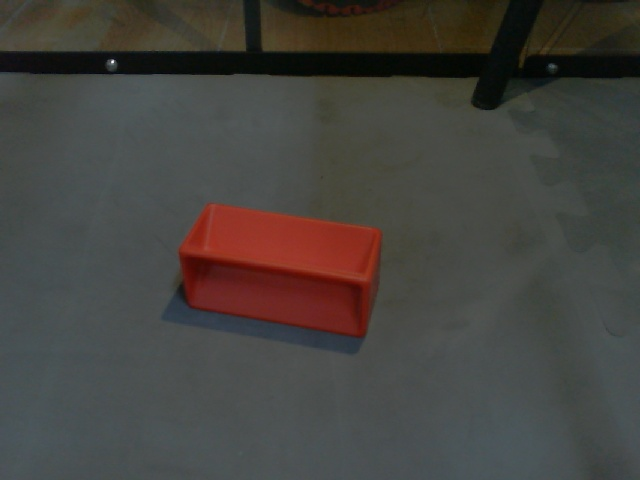RedSample: (176, 201, 382, 343)
